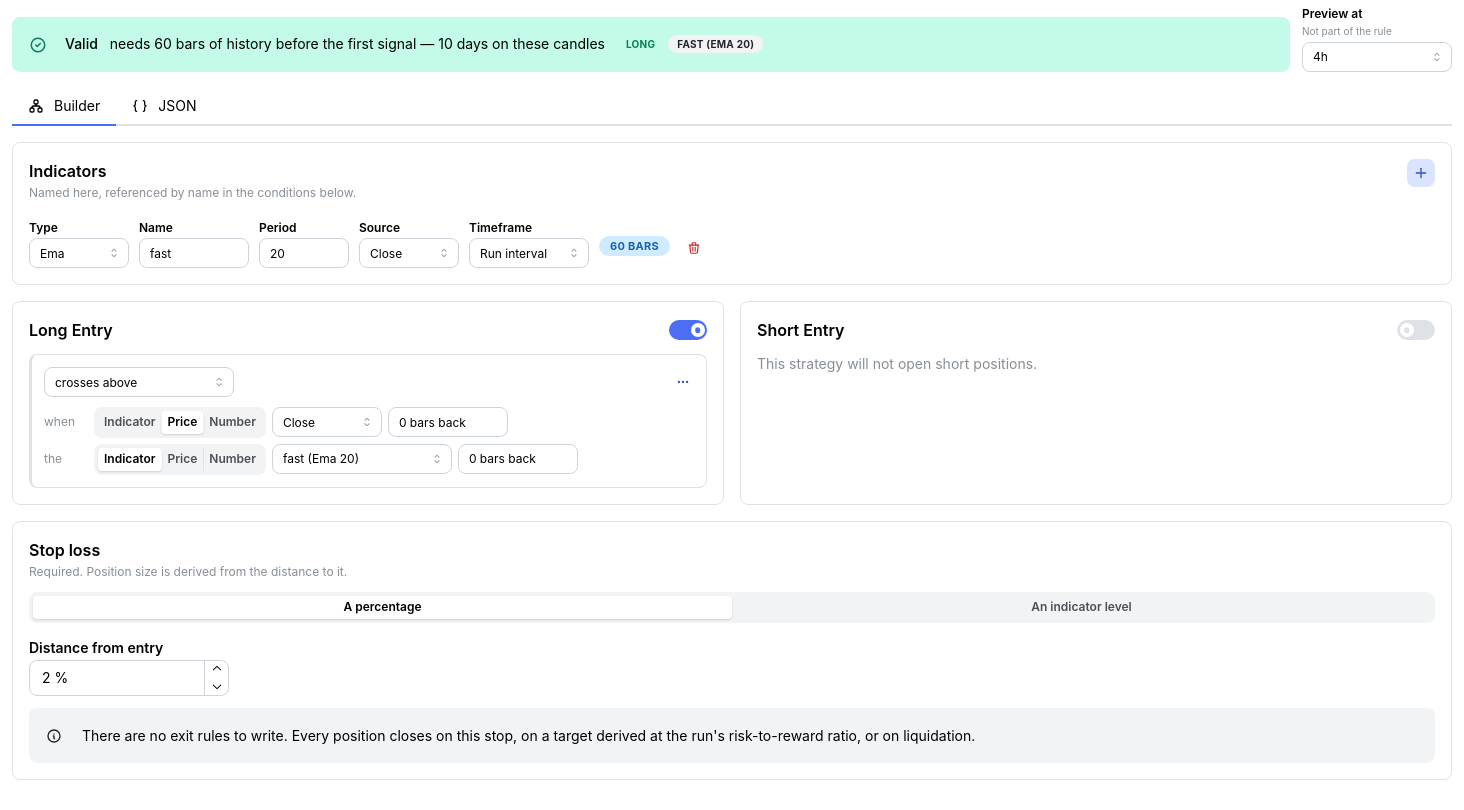
Test: the per-indicator timeframe › shows warmup in the indicator own bars once it reads a higher timeframe
This screenshot has width=1464, height=810.
Expected: the text "60 bars" is shown, x1=610 y1=237 x2=659 y2=255
Step 1. Click the dropdown labelled "Timeframe" → (529, 253), box x1=469 y1=238 x2=589 y2=268
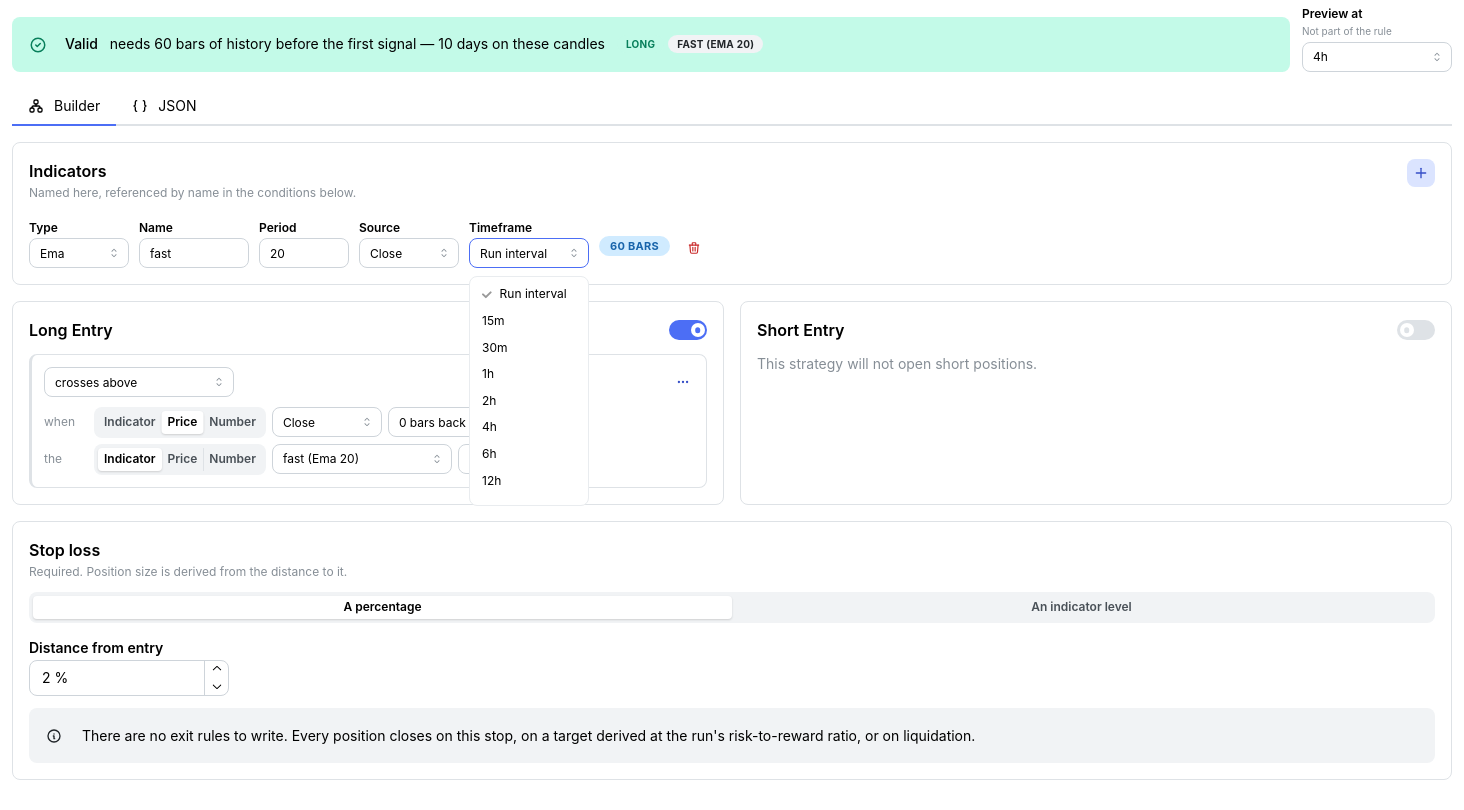
Step 2. Click the option "4h" → (489, 427), box x1=482 y1=419 x2=497 y2=434
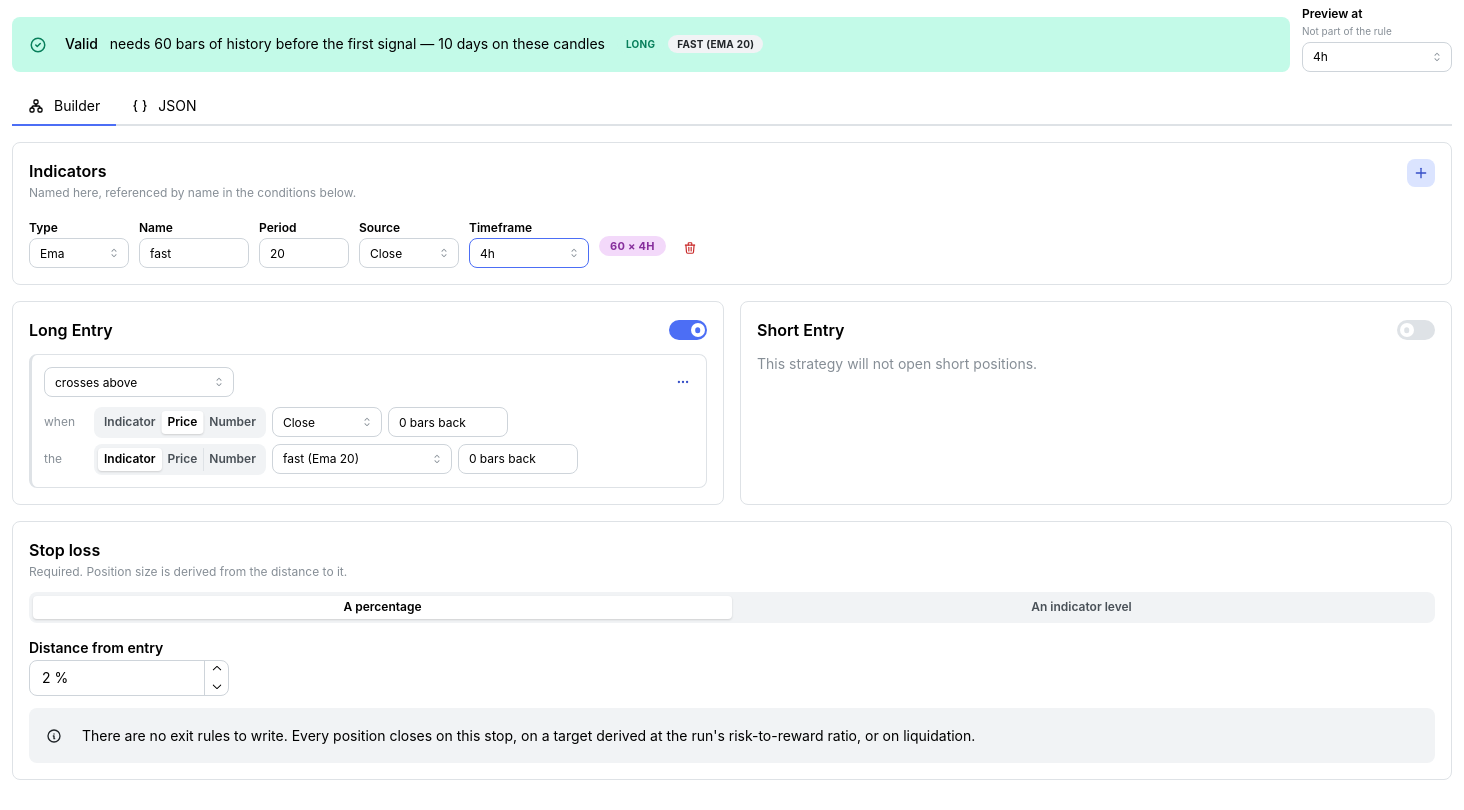
Expected: the text "60 × 4h" is shown, x1=610 y1=237 x2=655 y2=255
